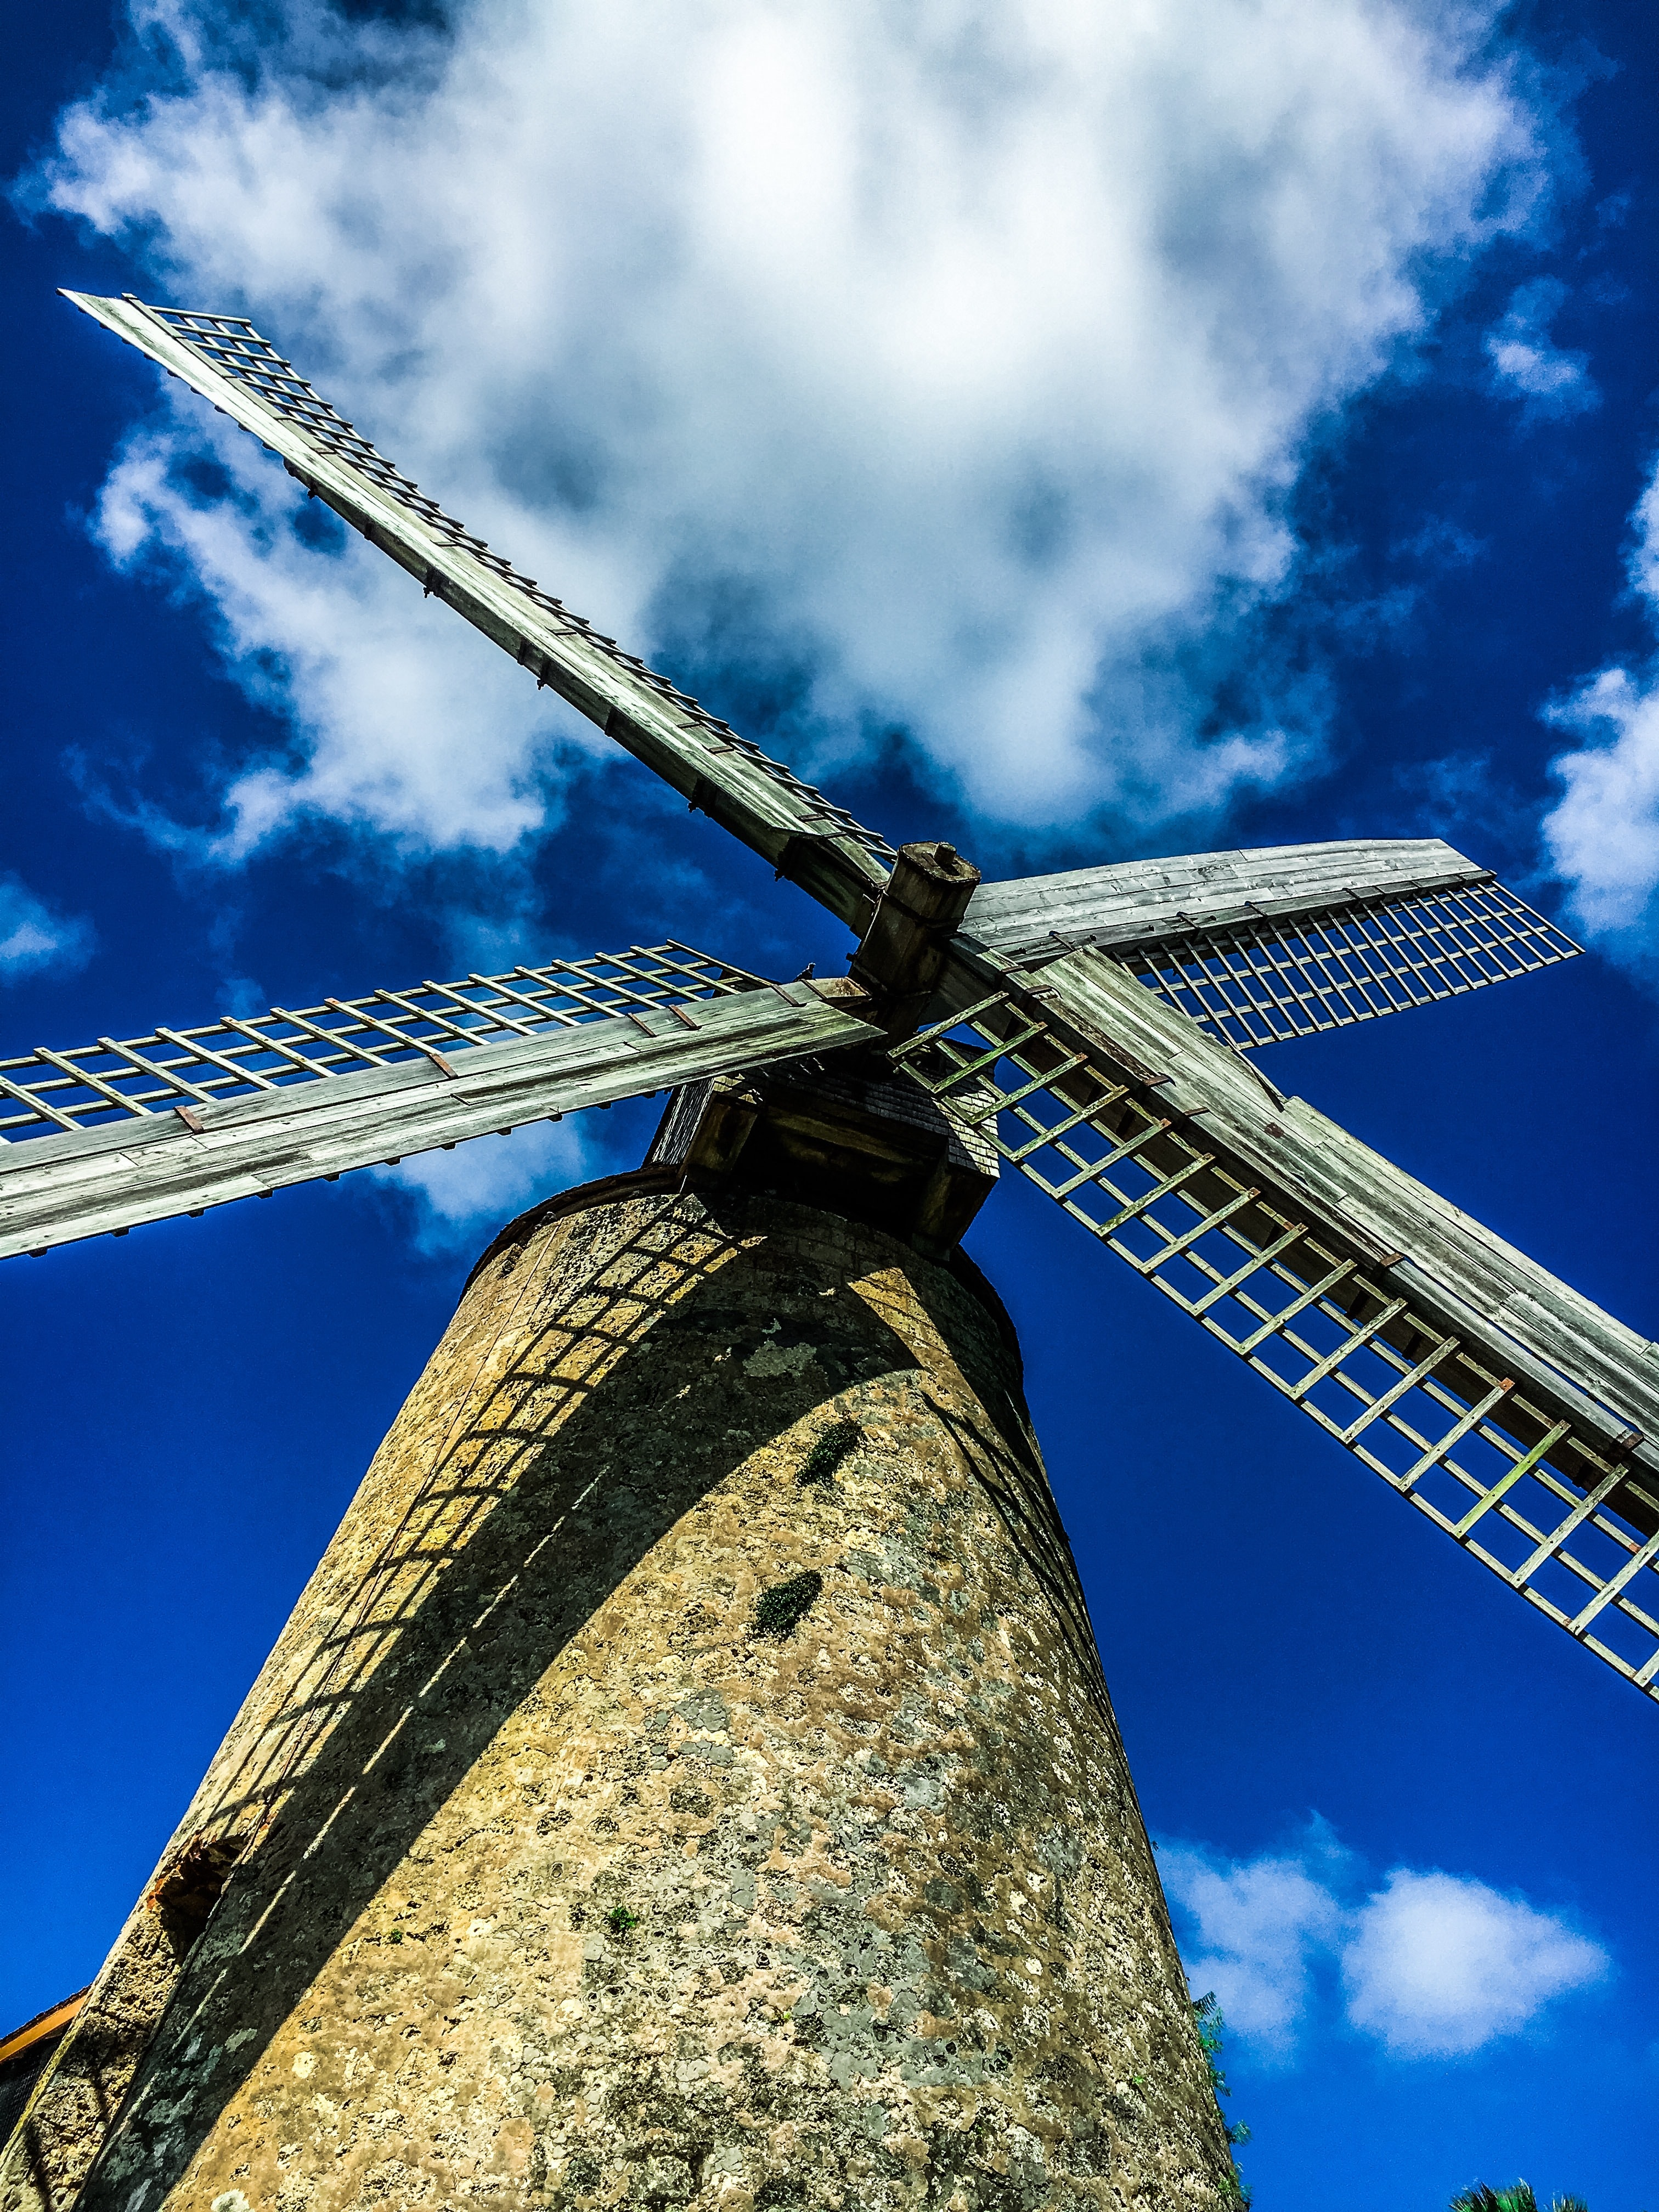working: (58, 284, 1577, 1465)
